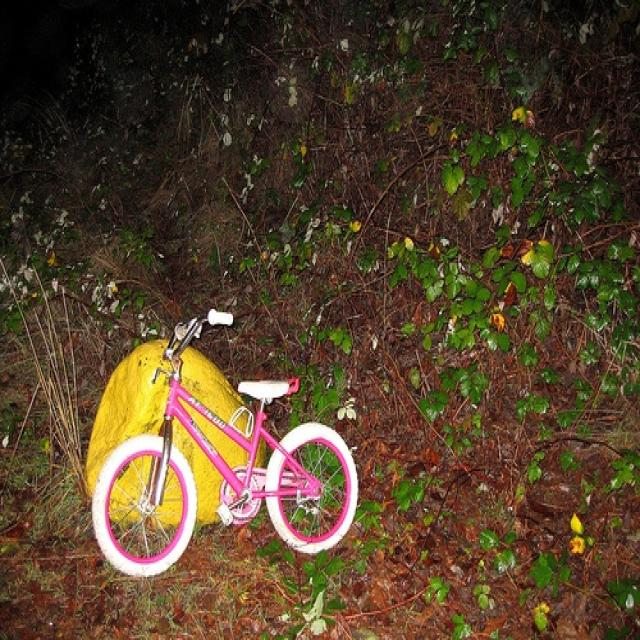bicycle: (91, 306, 358, 578)
